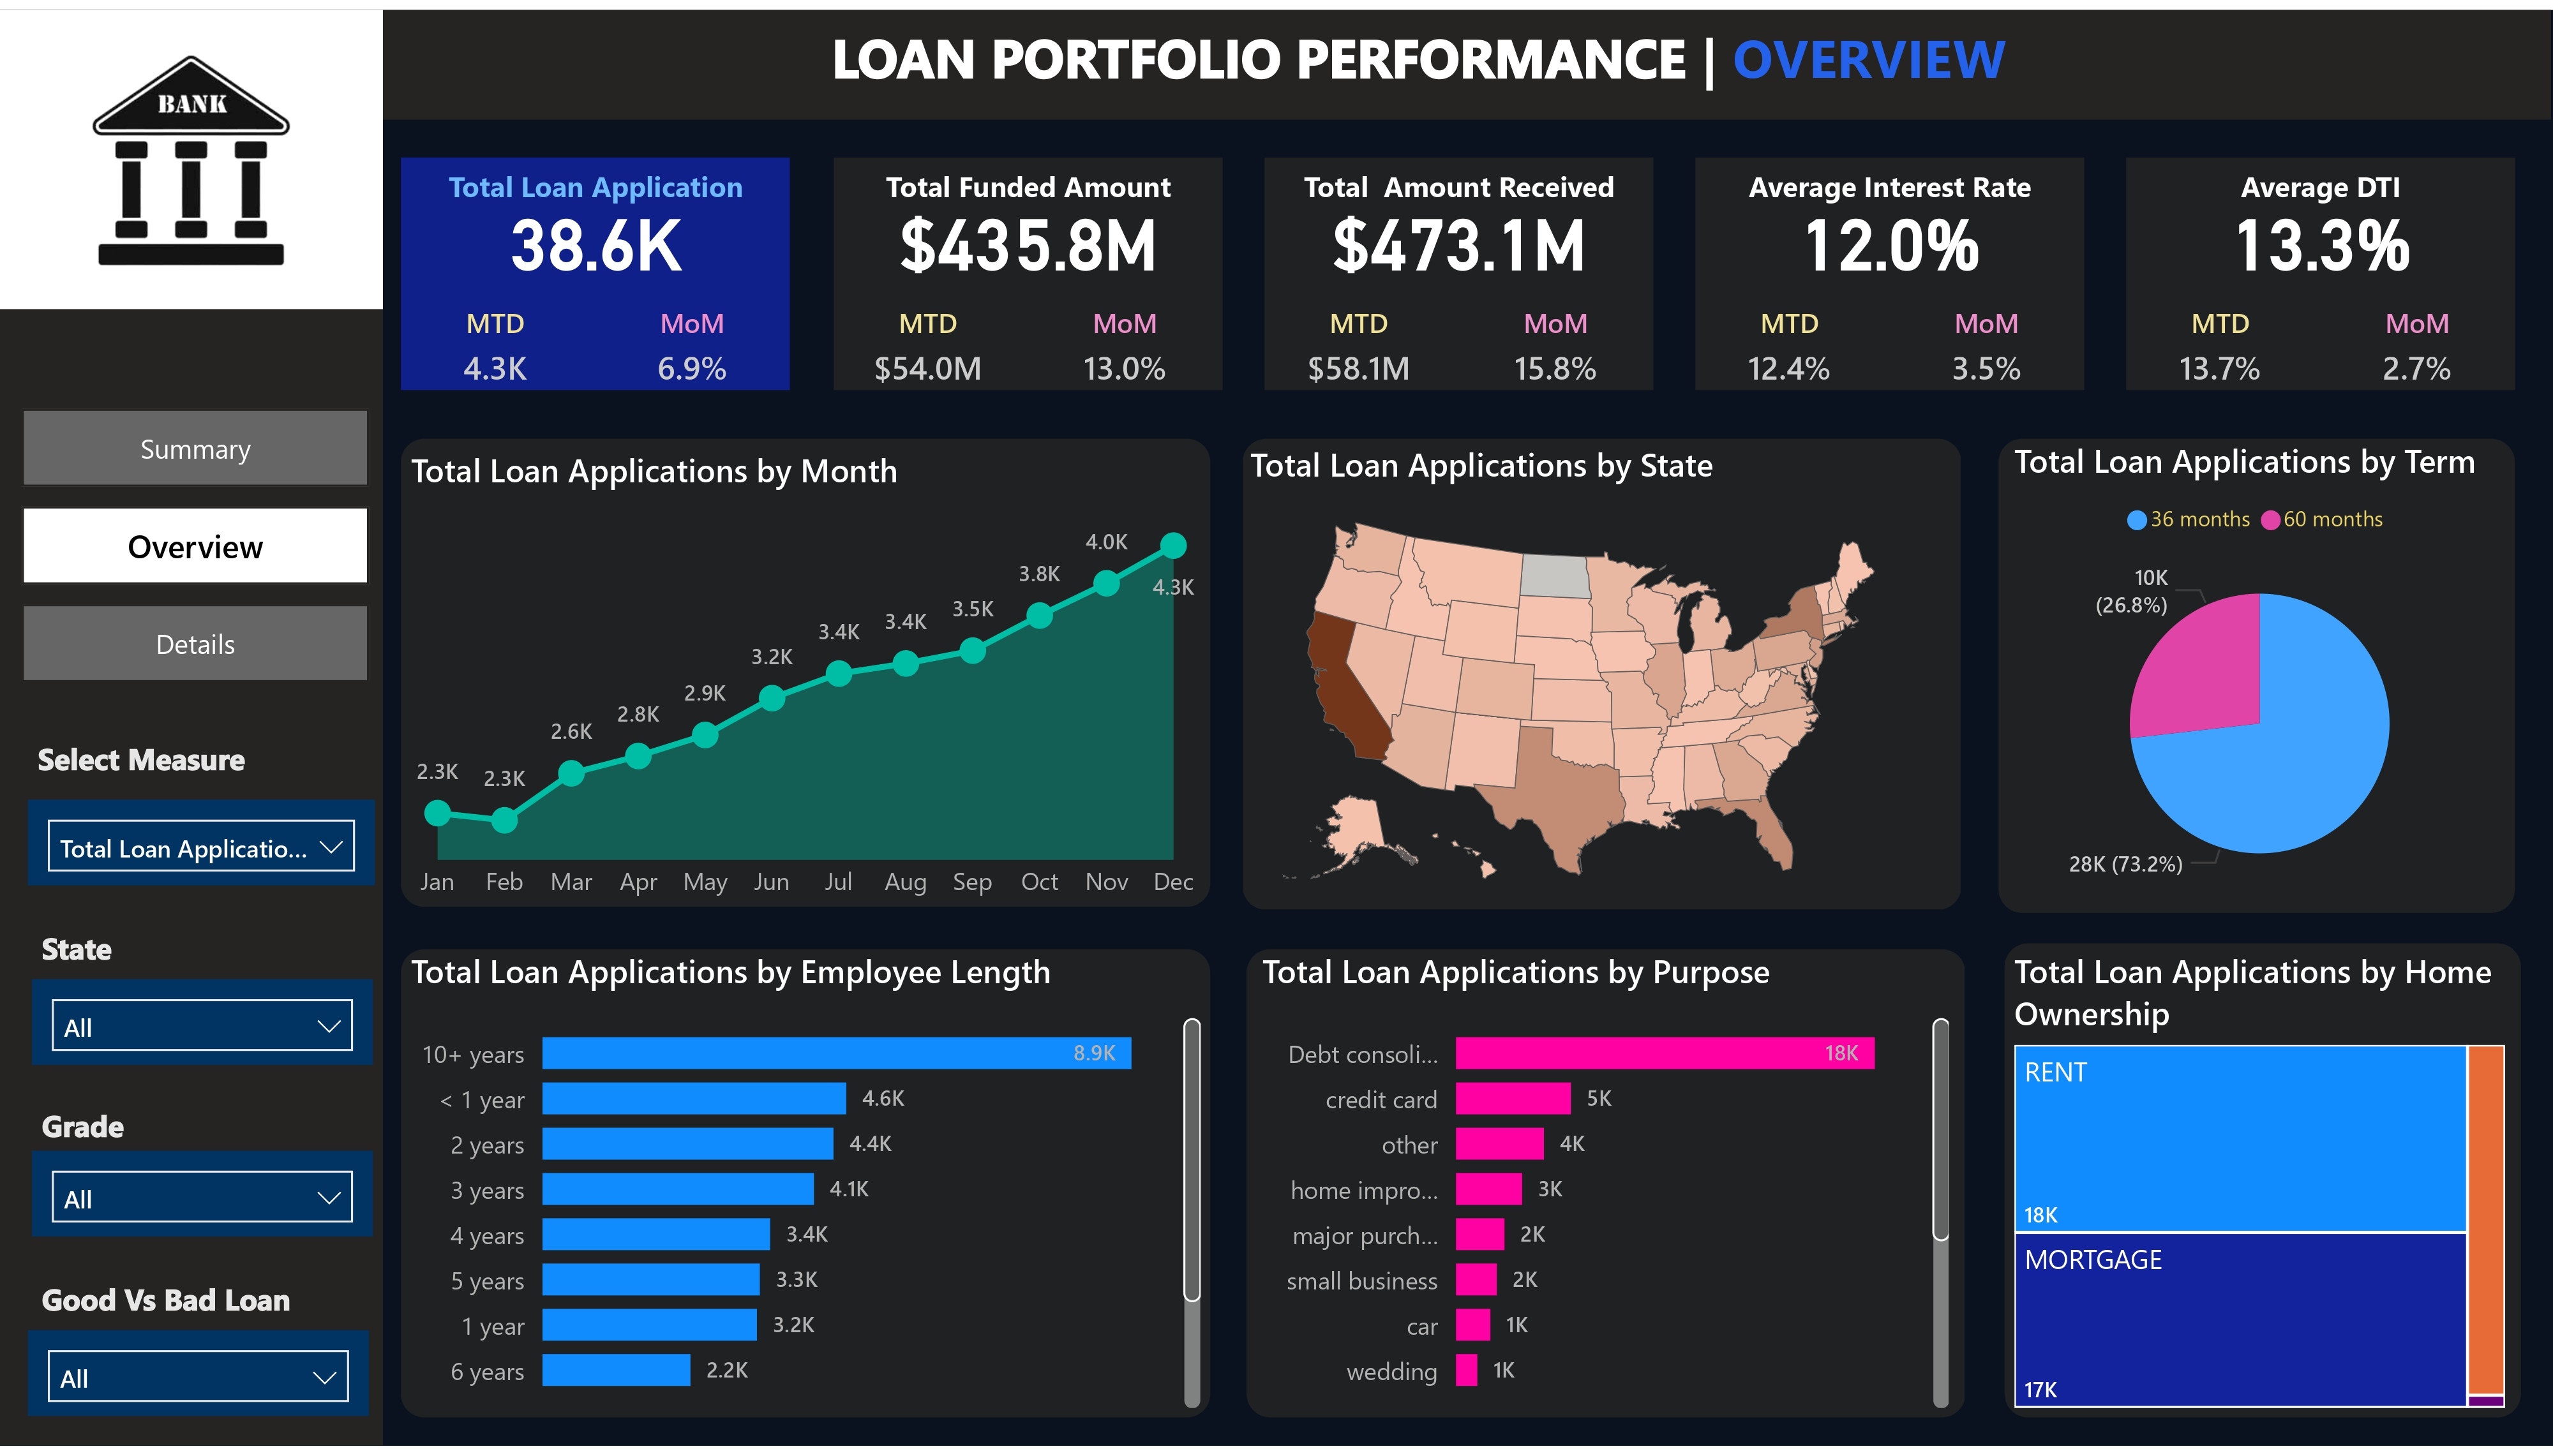

The page's visual inventory and layout, read from the dashboard file:
{"tool":"powerbi","page":{"name":"Overview","canvas":[1280,720],"ordinal":1},"visuals":[{"type":"shape","box":[0,54.5,192.3,664.7],"z":0},{"type":"shape","box":[201.4,74.2,195.3,116.6],"z":0,"group":"g1"},{"type":"slicer","fields":{"Values":["bank_loan_data.Good vs Bad Loan"]},"box":[13.6,662.7,170.9,43],"z":0,"group":"g6"},{"type":"shape","box":[417.5,74.2,195.3,116.6],"z":1000,"group":"g2"},{"type":"shape","box":[633.7,74.2,195.3,116.6],"z":1000,"group":"g3"},{"type":"shape","box":[849.8,74.2,195.3,116.6],"z":1000,"group":"g4"},{"type":"shape","box":[1066,74.2,195.3,116.6],"z":1000,"group":"g5"},{"type":"card","title":"Total Loan Applications","fields":{"Values":["bank_loan_data.Total Loan Applications"]},"box":[201.4,92.4,195.3,45.4],"z":1000,"group":"g1"},{"type":"shape","box":[201.4,215,405.8,234.7],"z":1000},{"type":"textbox","box":[15.2,631.8,170.9,30.9],"z":1000,"group":"g6"},{"type":"shape","box":[0,0,1279.4,55],"z":2000},{"type":"textbox","box":[201.4,74.2,195.3,34.8],"z":2000,"group":"g1"},{"type":"textbox","box":[13.6,360.4,170.9,30.9],"z":2000,"group":"g10"},{"type":"textbox","box":[411.9,0,682.9,54.5],"z":3000},{"type":"card","title":"Total Loan Applications","fields":{"Values":["bank_loan_data.Total Funded Amount"]},"box":[417.5,92.4,195.3,45.4],"z":3000,"group":"g2"},{"type":"card","title":"Total Loan Applications","fields":{"Values":["bank_loan_data.Total Amount Received"]},"box":[633.7,92.4,195.3,45.4],"z":3000,"group":"g3"},{"type":"card","title":"Total Loan Applications","fields":{"Values":["bank_loan_data.Average Interest Rate"]},"box":[849.8,92.4,195.3,45.4],"z":3000,"group":"g4"},{"type":"card","title":"Total Loan Applications","fields":{"Values":["bank_loan_data.Avg DTI"]},"box":[1066,92.4,195.3,45.4],"z":3000,"group":"g5"},{"type":"card","title":"MTD ","fields":{"Values":["bank_loan_data.MTD Loan Application"]},"box":[215,148.4,66.6,42.4],"z":3000,"group":"g1"},{"type":"group","id":"g1","title":"Group 1","box":[201.4,74.2,195.3,116.6],"z":4000},{"type":"card","title":"MoM","fields":{"Values":["bank_loan_data.MoM Loan Applications"]},"box":[313.5,148.4,68.1,42.4],"z":4000,"group":"g1"},{"type":"group","id":"g2","title":"Group 2","box":[417.5,74.2,195.3,116.6],"z":5000},{"type":"textbox","box":[417.5,74.2,195.3,34.8],"z":5000,"group":"g2"},{"type":"textbox","box":[633.7,74.2,195.3,34.8],"z":5000,"group":"g3"},{"type":"textbox","box":[849.8,74.2,195.3,34.8],"z":5000,"group":"g4"},{"type":"textbox","box":[1066,74.2,195.3,34.8],"z":5000,"group":"g5"},{"type":"group","id":"g3","title":"Group 2","box":[633.7,74.2,195.3,116.6],"z":6000},{"type":"group","id":"g4","title":"Group 2","box":[849.8,74.2,195.3,116.6],"z":7000},{"type":"card","title":"MTD ","fields":{"Values":["bank_loan_data.MTD Funded Amount"]},"box":[431.1,148.4,66.6,42.4],"z":7000,"group":"g2"},{"type":"card","title":"MTD ","fields":{"Values":["bank_loan_data.MTD Total Amount Received"]},"box":[647.3,148.4,66.6,42.4],"z":7000,"group":"g3"},{"type":"card","title":"MTD ","fields":{"Values":["bank_loan_data.MTD Average Interest Rate"]},"box":[863.4,148.4,66.6,42.4],"z":7000,"group":"g4"},{"type":"card","title":"MTD ","fields":{"Values":["bank_loan_data.MTD Avg DTI"]},"box":[1079.6,148.4,66.6,42.4],"z":7000,"group":"g5"},{"type":"group","id":"g5","title":"Group 2","box":[1066,74.2,195.3,116.6],"z":8000},{"type":"card","title":"MoM","fields":{"Values":["bank_loan_data.MoM Funded Amount"]},"box":[529.6,148.4,68.1,42.4],"z":8000,"group":"g2"},{"type":"card","title":"MoM","fields":{"Values":["bank_loan_data.MoM Received Amount"]},"box":[745.8,148.4,68.1,42.4],"z":8000,"group":"g3"},{"type":"card","title":"MoM","fields":{"Values":["bank_loan_data.MoM Average Interest Rate"]},"box":[961.9,148.4,68.1,42.4],"z":8000,"group":"g4"},{"type":"card","title":"MoM","fields":{"Values":["bank_loan_data.MoM Avg DTI"]},"box":[1178.1,148.4,68.1,42.4],"z":8000,"group":"g5"},{"type":"areaChart","fields":{"Y":["bank_loan_data.Total Loan Applications"],"Category":["Date Table.Month"]},"box":[201.4,219.6,405.8,234.7],"z":9000},{"type":"pageNavigator","box":[10.6,199.9,174.1,137.8],"z":10000},{"type":"group","id":"g6","title":"Group 3","box":[13.6,631.8,172.5,73.9],"z":10000,"group":"g7"},{"type":"group","id":"g7","title":"Group 8","box":[13.6,360.4,174.1,345.2],"z":11000},{"type":"group","id":"g8","title":"Group 4","box":[15.2,544.9,170.9,71.2],"z":11000,"group":"g7"},{"type":"group","id":"g9","title":"Group 5","box":[15.2,455.3,170.9,73.9],"z":12000,"group":"g7"},{"type":"shape","box":[201.4,470.9,405.8,234.7],"z":12000},{"type":"shape","box":[1002.4,215,258.9,237.7],"z":13000},{"type":"slicer","fields":{"Values":["Select Measure.Select Measure"]},"box":[13.6,396.7,174.1,43],"z":14000,"group":"g10"},{"type":"barChart","fields":{"Y":["bank_loan_data.Total Loan Applications"],"Category":["bank_loan_data.emp_length"]},"box":[201.4,470.9,405.8,234.7],"z":14000},{"type":"shape","box":[1005.4,467.9,258.9,237.7],"z":15000},{"type":"shape","box":[623.1,215,360.4,236.2],"z":16000},{"type":"pieChart","fields":{"Y":["bank_loan_data.Total Loan Applications"],"Category":["bank_loan_data.term"]},"box":[1005.4,215,255.9,237.7],"z":17000},{"type":"shape","box":[624.6,470.9,360.4,234.7],"z":18000},{"type":"barChart","fields":{"Y":["bank_loan_data.Total Loan Applications"],"Category":["bank_loan_data.purpose"]},"box":[628.4,470.9,354.3,234.7],"z":19000},{"type":"slicer","fields":{"Values":["bank_loan_data.address_state"]},"box":[15.2,486.2,170.9,43],"z":19000,"group":"g9"},{"type":"textbox","box":[15.2,455.3,170.9,30.9],"z":20000,"group":"g9"},{"type":"treemap","fields":{"Values":["bank_loan_data.Total Loan Applications"],"Group":["bank_loan_data.home_ownership"]},"box":[1005.4,470.9,255.9,234.7],"z":20000},{"type":"image","box":[0,0,192.3,149.9],"z":21000},{"type":"slicer","fields":{"Values":["bank_loan_data.grade"]},"box":[15.2,573.1,170.9,43],"z":21000,"group":"g8"},{"type":"shapeMap","fields":{"Value":["bank_loan_data.Total Loan Applications"],"Category":["bank_loan_data.address_state"]},"box":[622.3,216.5,339.2,236.2],"z":22000},{"type":"textbox","box":[15.2,544.9,170.9,30.9],"z":22001,"group":"g8"},{"type":"group","id":"g10","title":"Group 7","box":[13.6,360.4,174.1,79.3],"z":24001,"group":"g7"}]}

Visuals, with their boxes on the page's 1280x720 design canvas (x1, y1, x2, y2). These are canvas units, not pixel positions in the 2553x1456 screenshot, which may show the page scaled, cropped or inside an application window:
shape: rect(0, 54, 192, 719)
shape: rect(201, 74, 397, 191)
slicer - bank_loan_data.Good vs Bad Loan: rect(14, 663, 184, 706)
shape: rect(418, 74, 613, 191)
shape: rect(634, 74, 829, 191)
shape: rect(850, 74, 1045, 191)
shape: rect(1066, 74, 1261, 191)
"Total Loan Applications" card: rect(201, 92, 397, 138)
shape: rect(201, 215, 607, 450)
textbox: rect(15, 632, 186, 663)
shape: rect(0, 0, 1279, 55)
textbox: rect(201, 74, 397, 109)
textbox: rect(14, 360, 184, 391)
textbox: rect(412, 0, 1095, 54)
"Total Loan Applications" card: rect(418, 92, 613, 138)
"Total Loan Applications" card: rect(634, 92, 829, 138)
"Total Loan Applications" card: rect(850, 92, 1045, 138)
"Total Loan Applications" card: rect(1066, 92, 1261, 138)
"MTD " card: rect(215, 148, 282, 191)
"Group 1" group: rect(201, 74, 397, 191)
"MoM" card: rect(314, 148, 382, 191)
"Group 2" group: rect(418, 74, 613, 191)
textbox: rect(418, 74, 613, 109)
textbox: rect(634, 74, 829, 109)
textbox: rect(850, 74, 1045, 109)
textbox: rect(1066, 74, 1261, 109)
"Group 2" group: rect(634, 74, 829, 191)
"Group 2" group: rect(850, 74, 1045, 191)
"MTD " card: rect(431, 148, 498, 191)
"MTD " card: rect(647, 148, 714, 191)
"MTD " card: rect(863, 148, 930, 191)
"MTD " card: rect(1080, 148, 1146, 191)
"Group 2" group: rect(1066, 74, 1261, 191)
"MoM" card: rect(530, 148, 598, 191)
"MoM" card: rect(746, 148, 814, 191)
"MoM" card: rect(962, 148, 1030, 191)
"MoM" card: rect(1178, 148, 1246, 191)
areaChart - bank_loan_data.Total Loan Applications x Date Table.Month: rect(201, 220, 607, 454)
pageNavigator: rect(11, 200, 185, 338)
"Group 3" group: rect(14, 632, 186, 706)
"Group 8" group: rect(14, 360, 188, 706)
"Group 4" group: rect(15, 545, 186, 616)
"Group 5" group: rect(15, 455, 186, 529)
shape: rect(201, 471, 607, 706)
shape: rect(1002, 215, 1261, 453)
slicer - Select Measure.Select Measure: rect(14, 397, 188, 440)
barChart - bank_loan_data.Total Loan Applications x bank_loan_data.emp_length: rect(201, 471, 607, 706)
shape: rect(1005, 468, 1264, 706)
shape: rect(623, 215, 984, 451)
pieChart - bank_loan_data.Total Loan Applications x bank_loan_data.term: rect(1005, 215, 1261, 453)
shape: rect(625, 471, 985, 706)
barChart - bank_loan_data.Total Loan Applications x bank_loan_data.purpose: rect(628, 471, 983, 706)
slicer - bank_loan_data.address_state: rect(15, 486, 186, 529)
textbox: rect(15, 455, 186, 486)
treemap - bank_loan_data.Total Loan Applications x bank_loan_data.home_ownership: rect(1005, 471, 1261, 706)
image: rect(0, 0, 192, 150)
slicer - bank_loan_data.grade: rect(15, 573, 186, 616)
shapeMap - bank_loan_data.Total Loan Applications x bank_loan_data.address_state: rect(622, 216, 962, 453)
textbox: rect(15, 545, 186, 576)
"Group 7" group: rect(14, 360, 188, 440)
